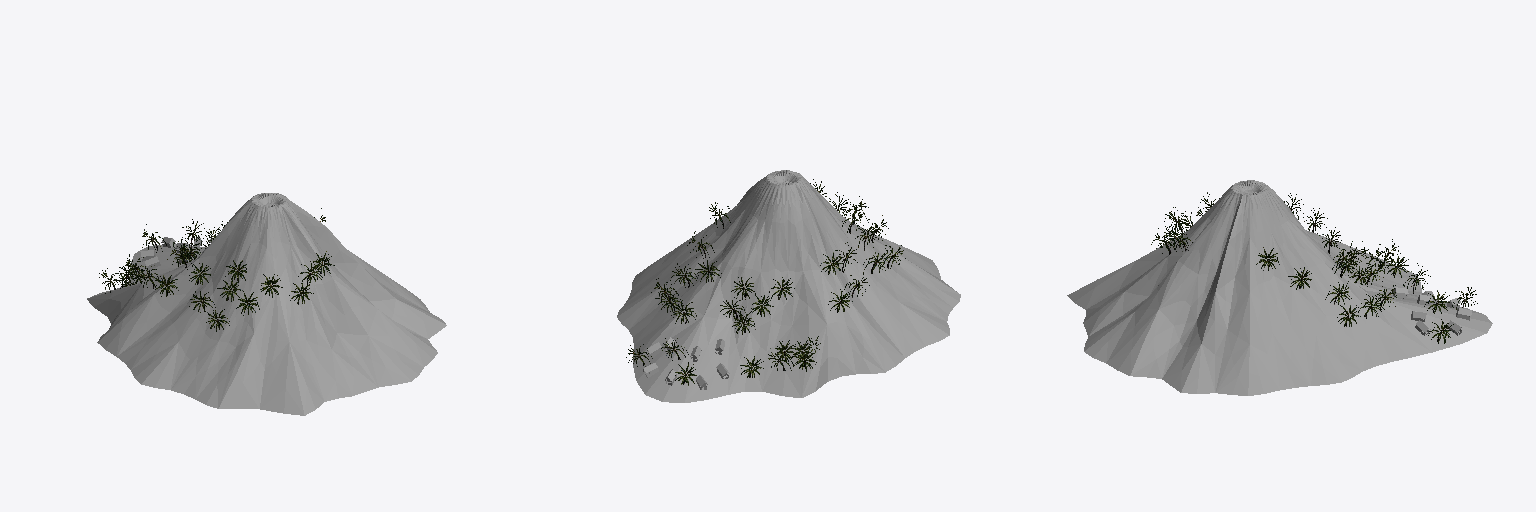
3 renders of one model, left to right at view 1: azimuth 30°, elevation 25°; view 2: azimuth 150°, elevation 25°; view 3: azimuth 270°, elevation 25°, orthographic.
Parts seen in each view (by area): view 1: Volcanoe_Cylinder; view 2: Volcanoe_Cylinder; view 3: Volcanoe_Cylinder.
Boxes of the visible parts, x1=… form: Volcanoe_Cylinder: x1=87, y1=193, x2=446, y2=415; Volcanoe_Cylinder: x1=617, y1=170, x2=960, y2=402; Volcanoe_Cylinder: x1=1067, y1=180, x2=1492, y2=395.
Size of the model in its own units: 2.14 by 0.9356 by 2.66.
3 materials, 1 textured.